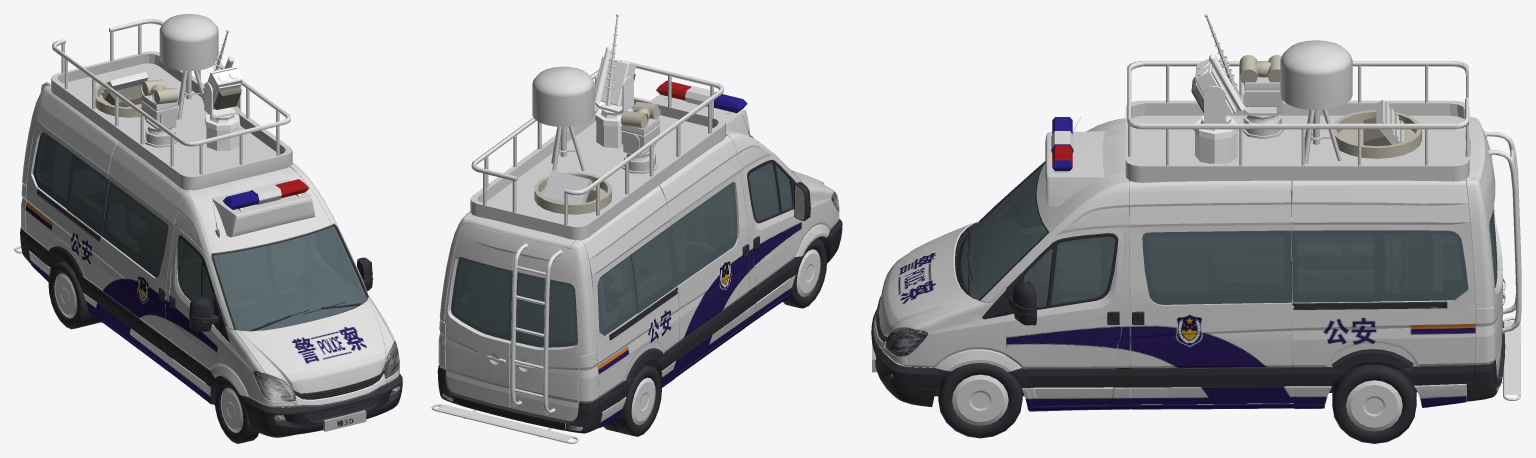
File: 6米通信指挥车.glb
3 views of the same model, side by side, from view 1: azimuth 30°, elevation 25°; view 2: azimuth 150°, elevation 25°; view 3: azimuth 270°, elevation 25° (orthographic). The views are drawn at different scales.
Visible parts, largest first — view 1: AZ_V2_MESH_VEHICLE_Body, AZ_V2_MESH_VEHICLE_Front__Windshield2, AZ_V2_MESH_VEHICLE_Body1, AZ_V2_MESH_VEHICLE_Right_Back_Door, AZ_V2_MESH_VEHICLE_Right_Back_Window, AZ_V2_MESH_VEHICLE_Body8, AZ_V2_MESH_VEHICLE_Body11, AZ_V2_MESH_VEHICLE_Right_Front_Door, AZ_V2_MESH_VEHICLE_Body12, AZ_V2_MESH_VEHICLE_Left_Back_Window4, AZ_V2_MESH_VEHICLE_Right_Rear_View_Mirror, AZ_V2_MESH_VEHICLE_Right_Front_Window (+12 smaller); view 2: AZ_V2_MESH_VEHICLE_Body, AZ_V2_MESH_VEHICLE_Right_Back_Door, AZ_V2_MESH_VEHICLE_Body1, AZ_V2_MESH_VEHICLE_Left_Back_Door.001, AZ_V2_MESH_VEHICLE_Left_Back_Door.002, AZ_V2_MESH_VEHICLE_Body11, AZ_V2_MESH_VEHICLE_Right_Back_Window, AZ_V2_MESH_VEHICLE_Body8, AZ_V2_MESH_VEHICLE_Rear_Windshield, AZ_V2_MESH_VEHICLE_Rear_Windshield2, AZ_V2_MESH_VEHICLE_Right_Front_Door, AZ_V2_MESH_VEHICLE_Body12 (+13 smaller); view 3: AZ_V2_MESH_VEHICLE_Body, AZ_V2_MESH_VEHICLE_Left_Back_Door, AZ_V2_MESH_VEHICLE_Body1, AZ_V2_MESH_VEHICLE_Front__Windshield2, AZ_V2_MESH_VEHICLE_Left_Back_Window2, AZ_V2_MESH_VEHICLE_Left_Front_Door, AZ_V2_MESH_VEHICLE_Body11, AZ_V2_MESH_VEHICLE_Right_Back_Window3, AZ_V2_MESH_VEHICLE_Body8, AZ_V2_MESH_VEHICLE_Left_Front_Window, AZ_V2_MESH_VEHICLE_Body12, AZ_V2_MESH_VEHICLE_Left_Back_Tire1 (+12 smaller).
Part boxes in pixels (box(x1,y1,x2,y2)): AZ_V2_MESH_VEHICLE_Body: box(21, 51, 399, 407); AZ_V2_MESH_VEHICLE_Front__Windshield2: box(33, 132, 367, 331); AZ_V2_MESH_VEHICLE_Body1: box(20, 189, 402, 437); AZ_V2_MESH_VEHICLE_Right_Back_Door: box(98, 141, 186, 337); AZ_V2_MESH_VEHICLE_Right_Back_Window: box(102, 181, 168, 277); AZ_V2_MESH_VEHICLE_Body8: box(159, 14, 218, 119); AZ_V2_MESH_VEHICLE_Body11: box(14, 19, 301, 253); AZ_V2_MESH_VEHICLE_Right_Front_Door: box(169, 227, 221, 370); AZ_V2_MESH_VEHICLE_Body12: box(202, 57, 242, 150); AZ_V2_MESH_VEHICLE_Left_Back_Window4: box(66, 154, 109, 236); AZ_V2_MESH_VEHICLE_Right_Rear_View_Mirror: box(169, 235, 220, 332); AZ_V2_MESH_VEHICLE_Right_Front_Window: box(178, 238, 213, 314); AZ_V2_MESH_VEHICLE_Body: box(438, 94, 839, 428); AZ_V2_MESH_VEHICLE_Right_Back_Door: box(659, 135, 749, 341); AZ_V2_MESH_VEHICLE_Body1: box(437, 154, 842, 433); AZ_V2_MESH_VEHICLE_Left_Back_Door.001: box(444, 223, 519, 407); AZ_V2_MESH_VEHICLE_Left_Back_Door.002: box(509, 237, 581, 420); AZ_V2_MESH_VEHICLE_Body11: box(431, 60, 730, 443); AZ_V2_MESH_VEHICLE_Right_Back_Window: box(669, 182, 737, 286); AZ_V2_MESH_VEHICLE_Body8: box(532, 66, 594, 171); AZ_V2_MESH_VEHICLE_Rear_Windshield: box(451, 257, 512, 340); AZ_V2_MESH_VEHICLE_Rear_Windshield2: box(516, 272, 577, 347); AZ_V2_MESH_VEHICLE_Right_Front_Door: box(742, 155, 801, 286); AZ_V2_MESH_VEHICLE_Body12: box(594, 47, 636, 148); AZ_V2_MESH_VEHICLE_Body: box(873, 100, 1496, 411); AZ_V2_MESH_VEHICLE_Left_Back_Door: box(1129, 180, 1292, 367); AZ_V2_MESH_VEHICLE_Body1: box(871, 161, 1505, 406); AZ_V2_MESH_VEHICLE_Front__Windshield2: box(960, 165, 1468, 301); AZ_V2_MESH_VEHICLE_Left_Back_Window2: box(1142, 230, 1291, 304); AZ_V2_MESH_VEHICLE_Left_Front_Door: box(1006, 227, 1124, 368); AZ_V2_MESH_VEHICLE_Body11: box(1053, 61, 1520, 400); AZ_V2_MESH_VEHICLE_Right_Back_Window3: box(1292, 230, 1379, 302); AZ_V2_MESH_VEHICLE_Body8: box(1280, 40, 1352, 163); AZ_V2_MESH_VEHICLE_Left_Front_Window: box(1023, 236, 1115, 306); AZ_V2_MESH_VEHICLE_Body12: box(1193, 54, 1245, 163); AZ_V2_MESH_VEHICLE_Left_Back_Tire1: box(1332, 364, 1416, 443).
Bounding box in the file's own units: 2.38 × 4.08 × 6.06.
Materials: 21 (8 with a texture image).
